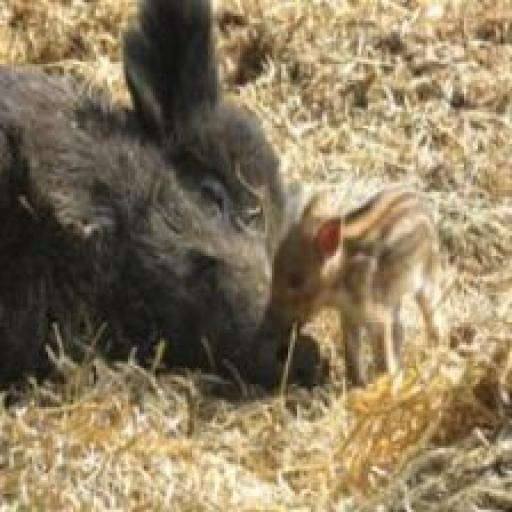Pig: (0, 0, 328, 414), (251, 174, 455, 395)
